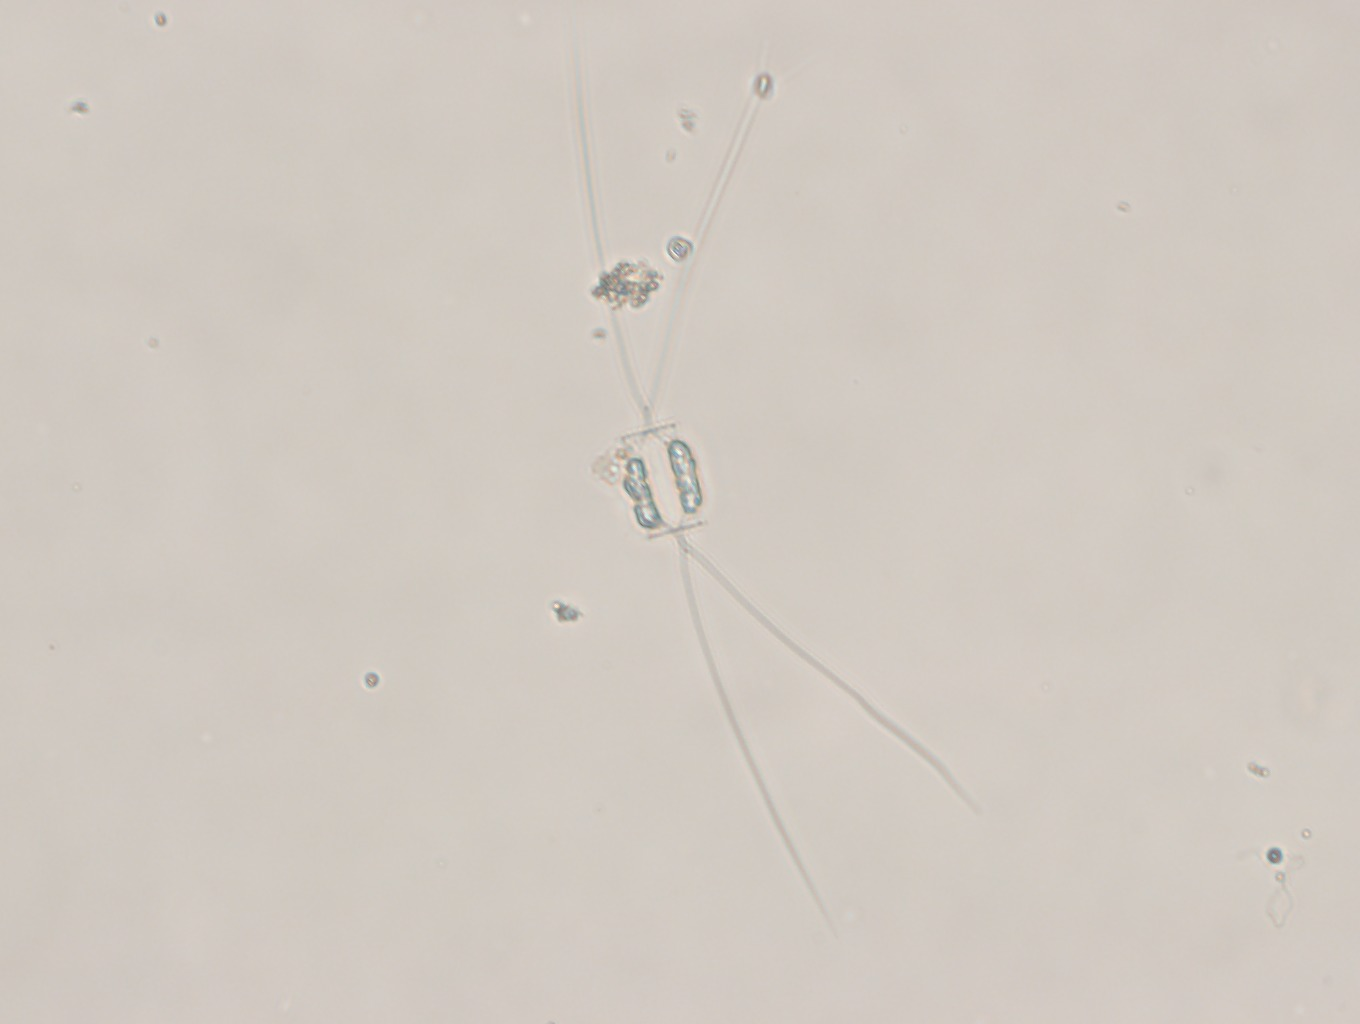chaetoceros: (561, 20, 991, 925)
